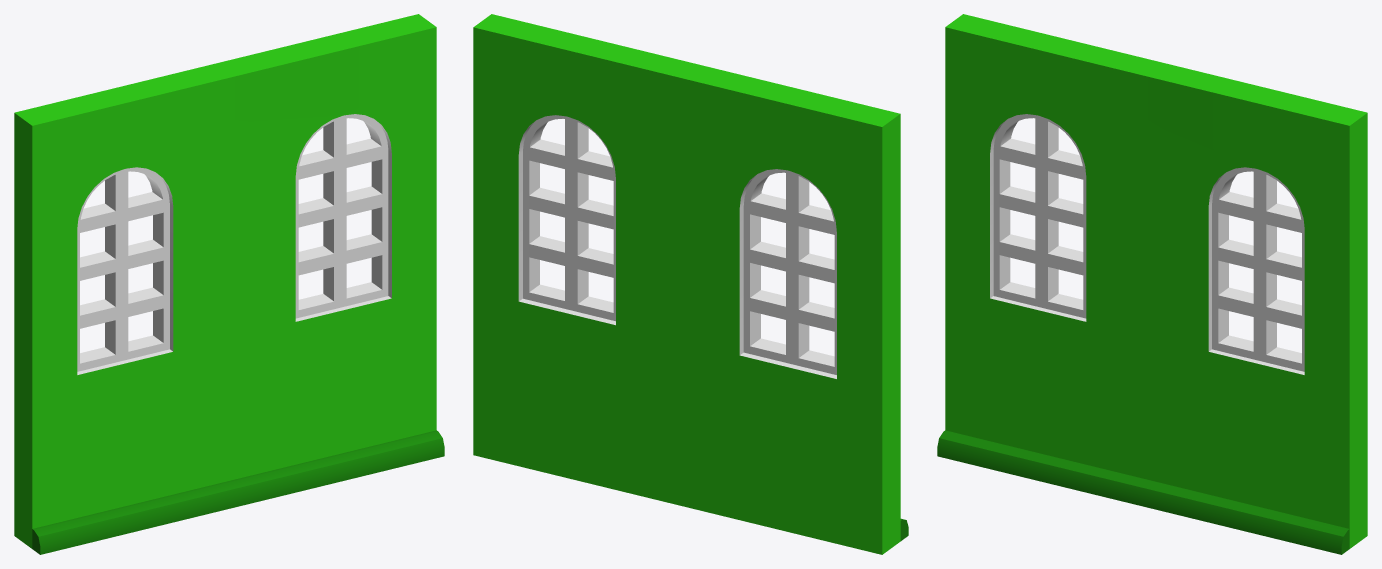
The model's file is G_Wall004.fbx.
3 views of the same model, side by side, from view 1: azimuth 30°, elevation 25°; view 2: azimuth 150°, elevation 25°; view 3: azimuth 330°, elevation 25° (orthographic).
Parts seen in each view (by area): view 1: Wall004.002; view 2: Wall004.002; view 3: Wall004.002.
Part boxes in pixels (left/top/right/bottom): Wall004.002: left=14, top=14, right=444, bottom=554; Wall004.002: left=473, top=14, right=908, bottom=554; Wall004.002: left=937, top=14, right=1367, bottom=554.
Size of the model in its own units: 250 by 250 by 27.87.
Materials: 1 (1 with a texture image).
